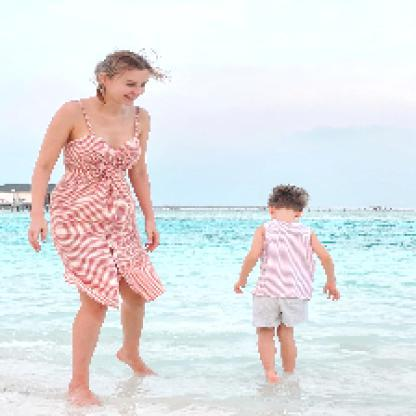child: (234, 184, 342, 385)
